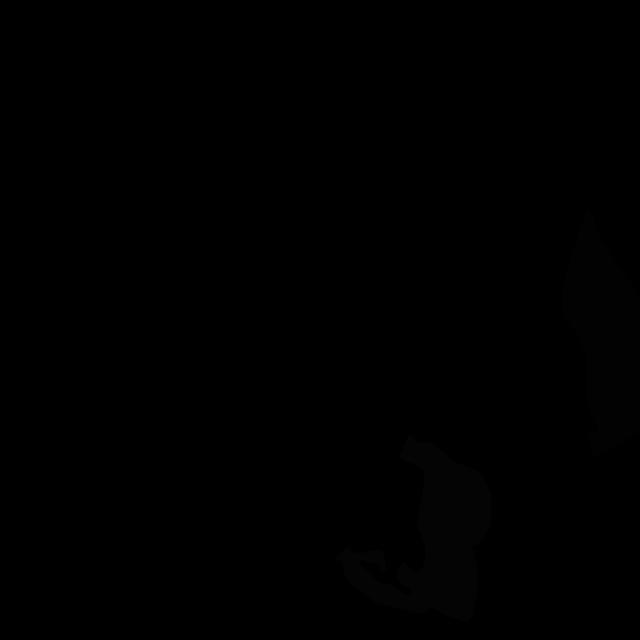cardboard: (562, 209, 640, 457)
soft_plastic: (334, 433, 492, 623)
